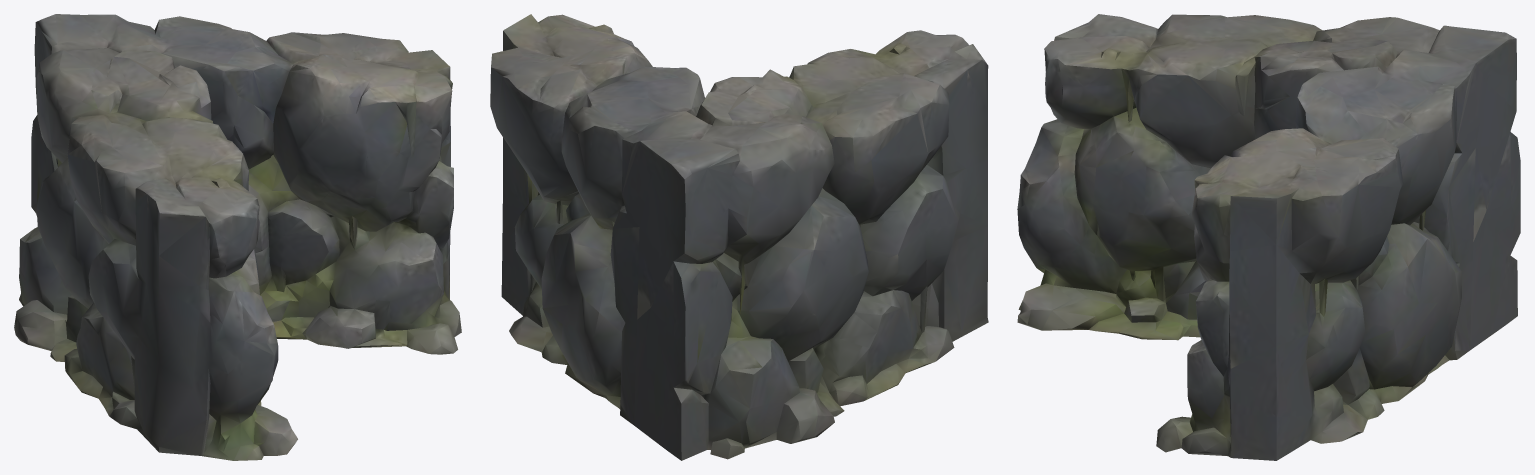
Rendered from cueva_esquina_int.glb.
The picture shows the model from 3 angles, left to right: view 1: azimuth 30°, elevation 25°; view 2: azimuth 150°, elevation 25°; view 3: azimuth 270°, elevation 25°; orthographic projection. The views are drawn at different scales.
Parts seen in each view (by area): view 1: cueva_esquina_int_malla; view 2: cueva_esquina_int_malla; view 3: cueva_esquina_int_malla.
Boxes of the visible parts, bbox=[...] form: cueva_esquina_int_malla: bbox=[14, 14, 461, 460]; cueva_esquina_int_malla: bbox=[490, 14, 988, 460]; cueva_esquina_int_malla: bbox=[1017, 14, 1520, 460].
Size of the model in its own units: 0.4277 by 0.3068 by 0.4795.
Materials: 1 (1 with a texture image).
